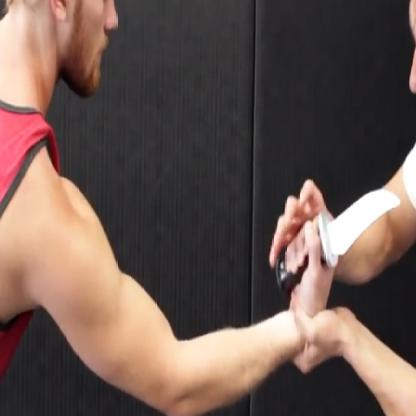knife: (272, 172, 407, 290)
